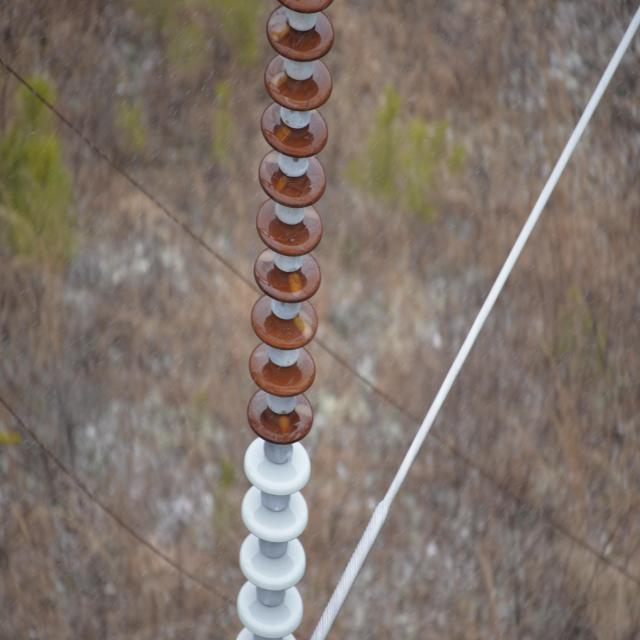insulator: (236, 1, 341, 640)
